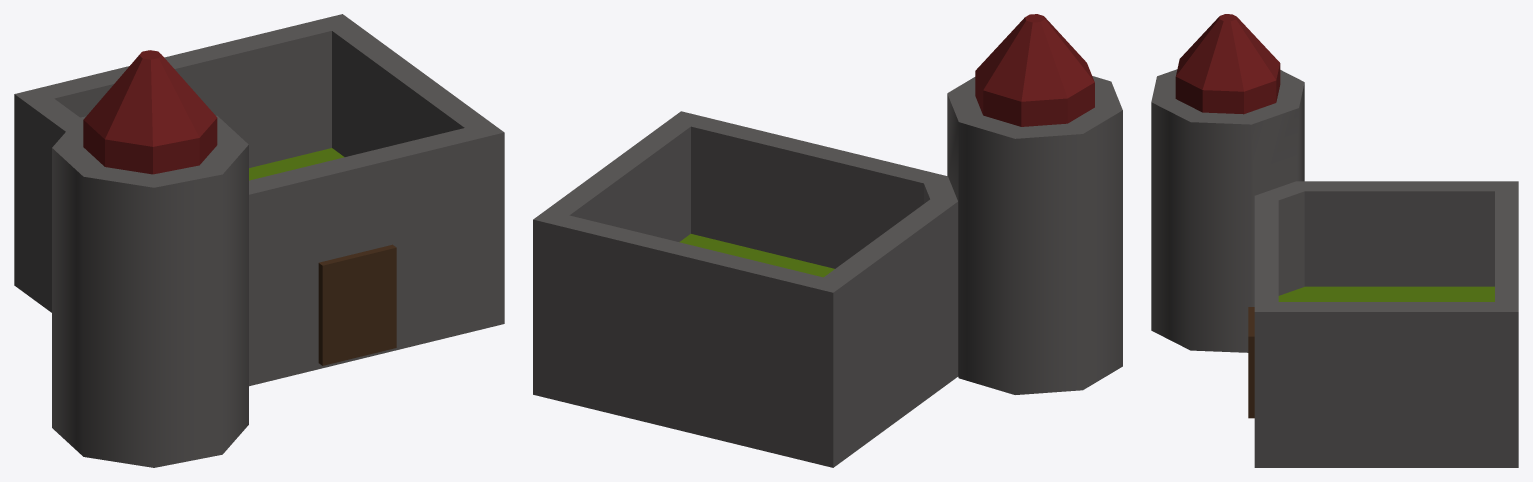
Rendered from Castle.FBX.
3 views of the same model, side by side, from view 1: azimuth 30°, elevation 25°; view 2: azimuth 150°, elevation 25°; view 3: azimuth 270°, elevation 25° (orthographic). The views are drawn at different scales.
Parts seen in each view (by area): view 1: Castle; view 2: Castle; view 3: Castle.
Boxes of the visible parts, bbox=[...] form: Castle: bbox=[14, 14, 504, 467]; Castle: bbox=[533, 14, 1122, 467]; Castle: bbox=[1151, 14, 1518, 467].
Bounding box in the file's own units: 17.95 × 14.1 × 15.5.
